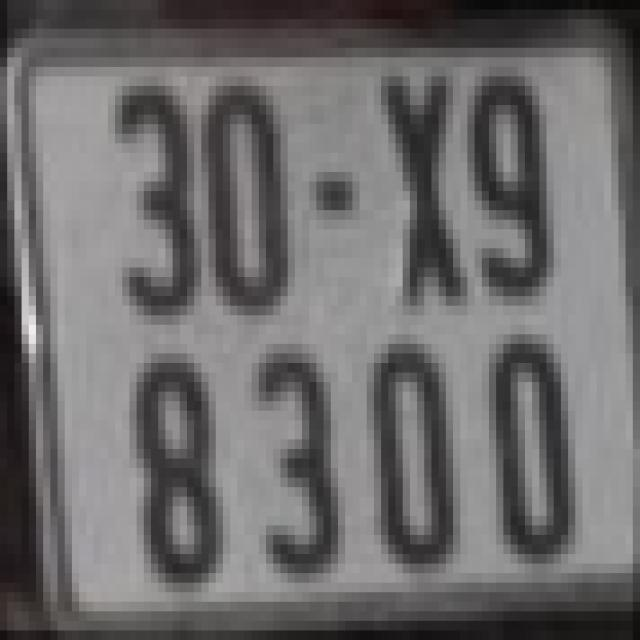0: (208, 77, 295, 316), (488, 334, 576, 564), (374, 344, 453, 574)
3: (252, 354, 346, 574), (115, 86, 201, 316)
8: (136, 353, 224, 583)
9: (467, 66, 554, 296)
X: (381, 67, 468, 306)
